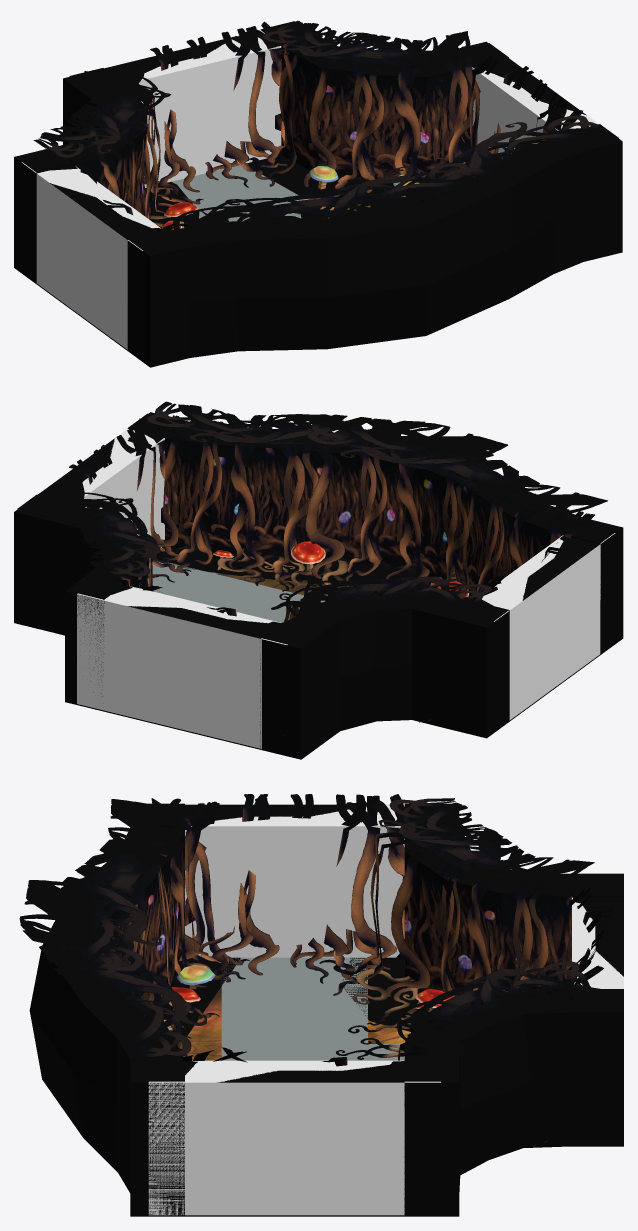
File: Dungeon_021_RoadT_002.fbx
3 views of the same model, one above another, from view 1: azimuth 30°, elevation 25°; view 2: azimuth 150°, elevation 25°; view 3: azimuth 270°, elevation 25° (orthographic). The views are drawn at different scales.
Visible parts, largest first — view 1: Dan1, Dungeon_021_Tsuta_003 1, DoorWay_NavMask (×3), Dungeon_021_Tsuta_003, DoorWay_NavMask (1), un_021_Door_002_Object1 (×2), un_021_Door_002 (×3), Quad_Nav_SP (2), Dan1_shadow; view 2: Dan1, DoorWay_NavMask (1) (×2), Dungeon_021_Tsuta_003 1, Dungeon_021_Tsuta_003, un_021_Door_002 (×3), DoorWay_NavMask (×3), Quad_Nav_SP (1), Dan1_shadow, un_021_Door_002_Object1, Dungeon_021_Tsuta_001, Kinoko01, Dan2; view 3: Dan1, Dungeon_021_Tsuta_003 1, DoorWay_NavMask (1), DoorWay_NavMask (×3), un_021_Door_002_Object1 (×2), Quad_Nav_SP (1), Dungeon_021_Tsuta_003, un_021_Door_002 (×3), Dan1_shadow, Dan2, Dungeon_021_Tsuta_001, Quad_Nav_SP (2) (+1 smaller).
Part boxes in pixels (left/top/right/bottom): Dan1: left=14, top=21, right=622, bottom=367; Dungeon_021_Tsuta_003 1: left=33, top=20, right=607, bottom=241; DoorWay_NavMask (×3): left=37, top=30, right=562, bottom=228; Dungeon_021_Tsuta_003: left=88, top=35, right=557, bottom=232; DoorWay_NavMask (1): left=22, top=162, right=142, bottom=349; un_021_Door_002_Object1 (×2): left=126, top=21, right=582, bottom=202; un_021_Door_002 (×3): left=17, top=21, right=618, bottom=350; Quad_Nav_SP (2): left=171, top=165, right=329, bottom=221; Dan1_shadow: left=145, top=155, right=463, bottom=227; Dan1: left=14, top=412, right=623, bottom=759; DoorWay_NavMask (1) (×2): left=77, top=533, right=615, bottom=748; Dungeon_021_Tsuta_003 1: left=30, top=401, right=607, bottom=623; Dungeon_021_Tsuta_003: left=51, top=415, right=594, bottom=622; un_021_Door_002 (×3): left=17, top=413, right=619, bottom=749; DoorWay_NavMask (×3): left=82, top=429, right=563, bottom=622; Quad_Nav_SP (1): left=147, top=561, right=325, bottom=618; Dan1_shadow: left=156, top=548, right=473, bottom=601; un_021_Door_002_Object1: left=66, top=418, right=191, bottom=582; Dungeon_021_Tsuta_001: left=217, top=548, right=348, bottom=600; Kinoko01: left=291, top=541, right=325, bottom=570; Dan2: left=207, top=571, right=378, bottom=749; Dan1: left=29, top=804, right=623, bottom=1216; Dungeon_021_Tsuta_003 1: left=19, top=798, right=594, bottom=1057; DoorWay_NavMask (1): left=148, top=1067, right=440, bottom=1215; DoorWay_NavMask (×3): left=185, top=805, right=623, bottom=1082; un_021_Door_002_Object1 (×2): left=179, top=794, right=613, bottom=1147; Quad_Nav_SP (1): left=221, top=957, right=367, bottom=1060; Dungeon_021_Tsuta_003: left=67, top=798, right=561, bottom=1060; un_021_Door_002 (×3): left=137, top=803, right=623, bottom=1216; Dan1_shadow: left=163, top=957, right=429, bottom=1046; Dan2: left=180, top=987, right=410, bottom=1060; Dungeon_021_Tsuta_001: left=336, top=968, right=430, bottom=1059; Quad_Nav_SP (2): left=258, top=1044, right=404, bottom=1060.
Size of what is drawn, in the model's own units: 9 by 2.36 by 8.34.
